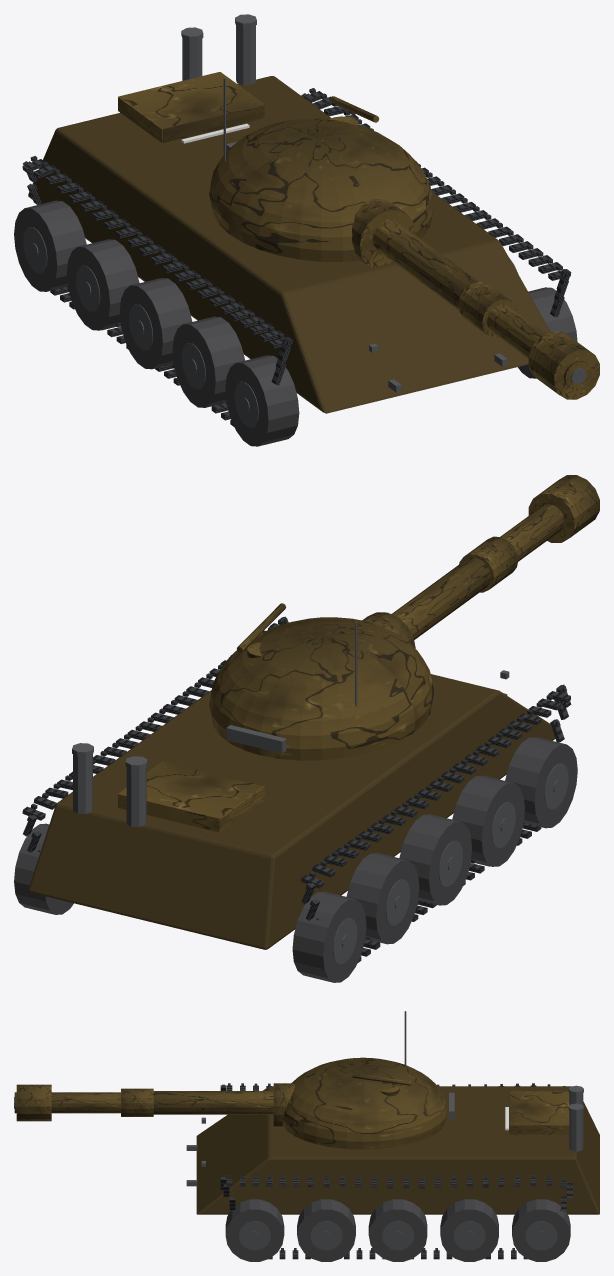
File: kestrel_LOD0.glb
3 renders of one model, top to bottom at view 1: azimuth 30°, elevation 25°; view 2: azimuth 150°, elevation 25°; view 3: azimuth 270°, elevation 25°, orthographic. The views are drawn at different scales.
Visible parts, largest first — view 1: HullMesh, TurretMesh, Wheels_L, TrackL, Gun_tube1, TrackR, Gun_brk, Gun_tube2, Gun_ext, Wheels_R, exh1, exh-1; view 2: HullMesh, TurretMesh, Wheels_L, TrackL, Gun_tube1, TrackR, Gun_brk, Wheels_R, Gun_tube2, Gun_ext, exh-1, exh1; view 3: HullMesh, Wheels_R, TurretMesh, Gun_tube1, TrackR, Gun_tube2, Gun_brk, Gun_ext, exh1.
Part boxes in pixels (bbox=[...]): HullMesh: bbox=[28, 72, 550, 413]; TurretMesh: bbox=[209, 78, 433, 267]; Wheels_L: bbox=[14, 200, 299, 446]; TrackL: bbox=[22, 156, 292, 426]; Gun_tube1: bbox=[372, 220, 478, 309]; TrackR: bbox=[301, 88, 571, 317]; Gun_brk: bbox=[528, 331, 599, 399]; Gun_tube2: bbox=[487, 304, 591, 390]; Gun_ext: bbox=[458, 282, 517, 337]; Wheels_R: bbox=[509, 258, 577, 378]; exh1: bbox=[236, 25, 255, 85]; exh-1: bbox=[182, 39, 202, 80]; HullMesh: bbox=[28, 670, 555, 949]; TurretMesh: bbox=[209, 603, 433, 760]; Wheels_L: bbox=[292, 737, 577, 982]; TrackL: bbox=[301, 684, 571, 963]; Gun_tube1: bbox=[391, 557, 490, 639]; TrackR: bbox=[22, 616, 288, 852]; Gun_brk: bbox=[528, 475, 599, 542]; Wheels_R: bbox=[14, 823, 73, 914]; Gun_tube2: bbox=[500, 504, 564, 561]; Gun_ext: bbox=[459, 536, 518, 592]; exh-1: bbox=[126, 767, 146, 826]; exh1: bbox=[73, 754, 92, 813]; HullMesh: bbox=[186, 1086, 599, 1214]; Wheels_R: bbox=[225, 1199, 570, 1261]; TurretMesh: bbox=[273, 1011, 454, 1149]; Gun_tube1: bbox=[153, 1091, 273, 1114]; TrackR: bbox=[220, 1175, 572, 1259]; Gun_tube2: bbox=[14, 1092, 120, 1113]; Gun_brk: bbox=[16, 1084, 51, 1121]; Gun_ext: bbox=[121, 1088, 153, 1116]; exh1: bbox=[569, 1111, 583, 1151].
Bounding box in the file's own units: 3.5 × 2.8 × 8.39.
Materials: 5 (3 with a texture image).
